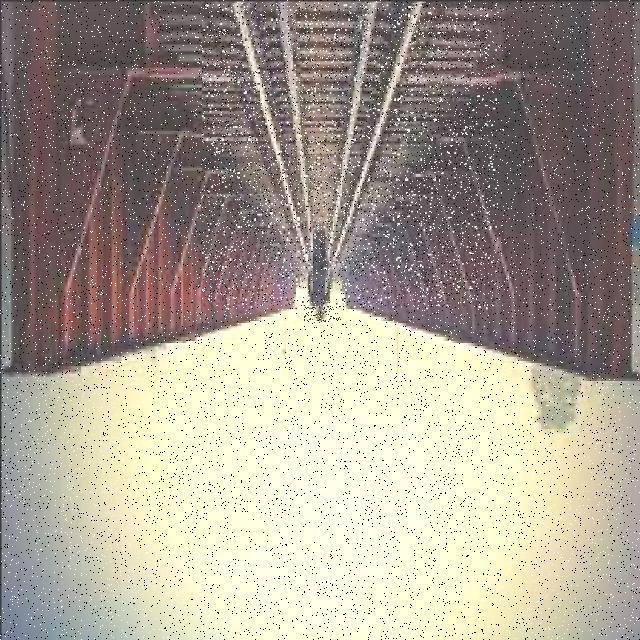danger: (304, 222, 341, 323)
rail: (202, 3, 494, 306)
